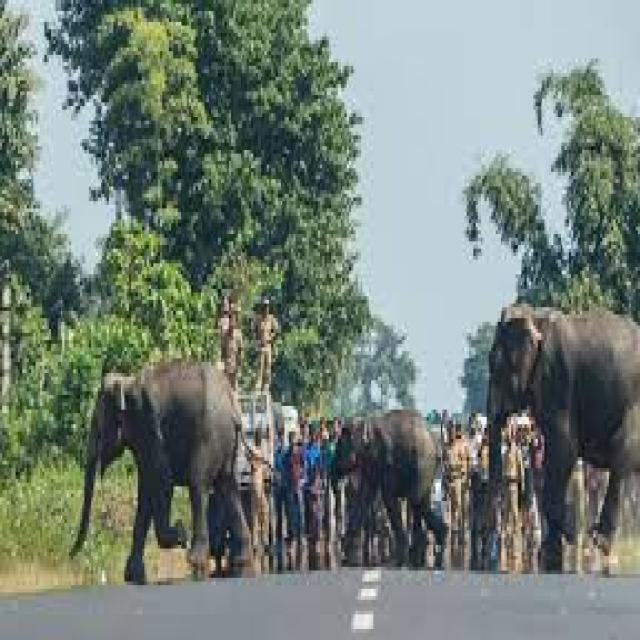Elephant: (69, 333, 261, 582), (482, 292, 640, 567), (324, 404, 460, 582)
